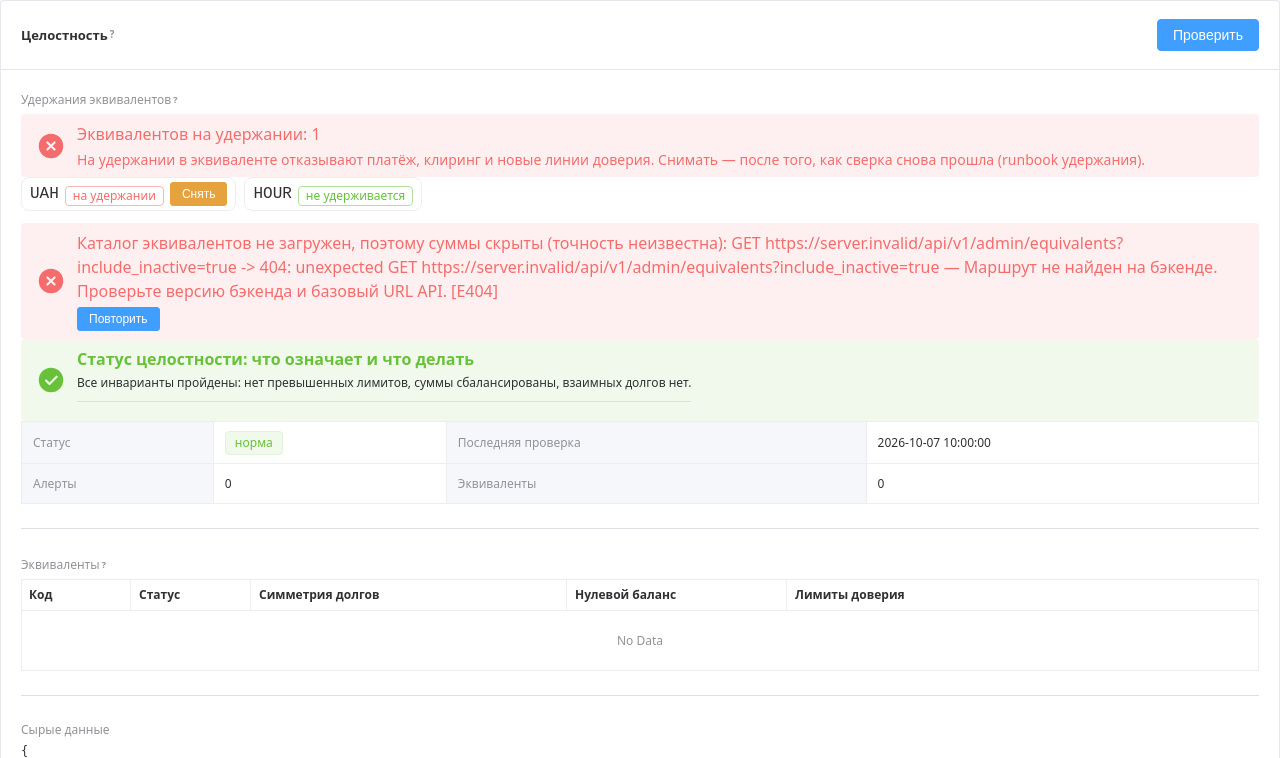
Test: Integrity screen: equivalent holds (032 F-4) › shows the refusal {"reason":"no_later_passed_reconciliation_result","latest_status":null,"recheck_status":null} as text, not as a code
The width and height of the screenshot is (1280, 758).
Click the button "Снять" at point(199, 194), box [170, 182, 227, 206]
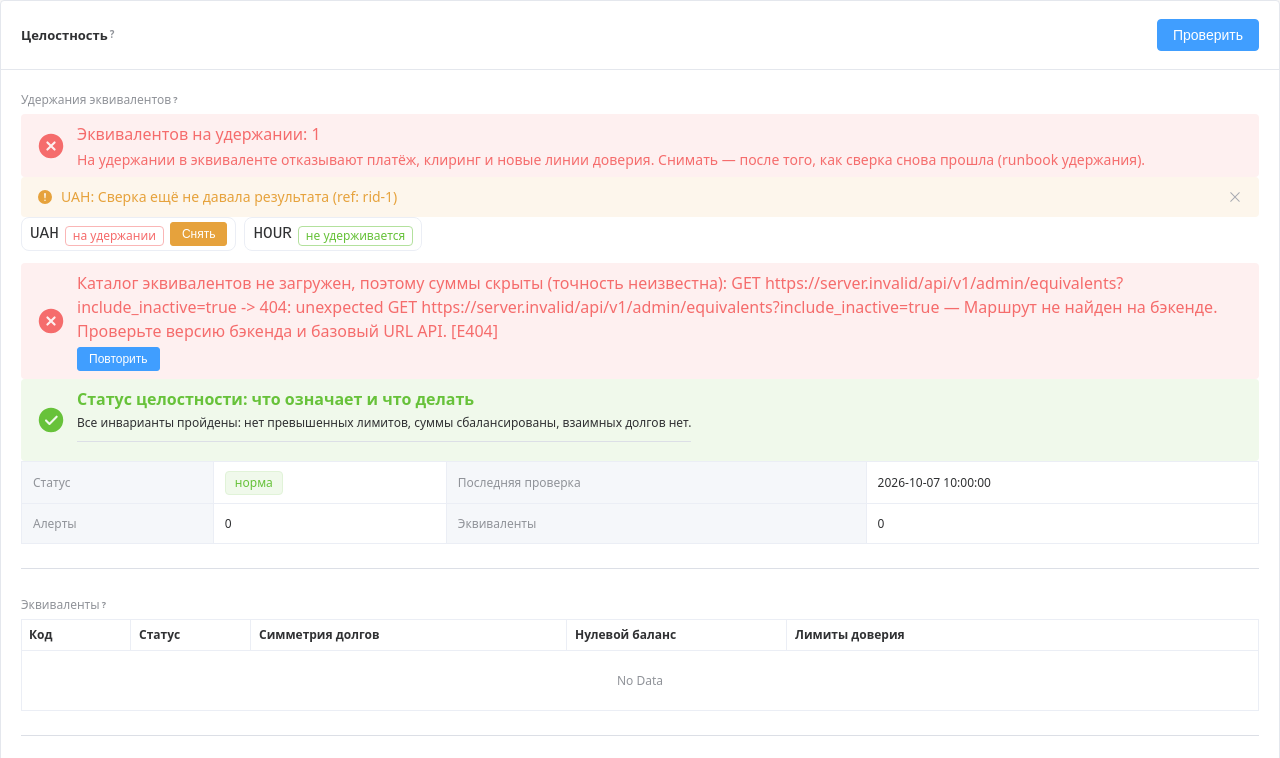
Expected: the element with test id "integrity-hold-refusal" is shown, [21, 177, 1259, 217]
Expected: the element with test id "integrity-hold-refusal" shows "Сверка ещё не давала результата", [61, 187, 397, 206]
